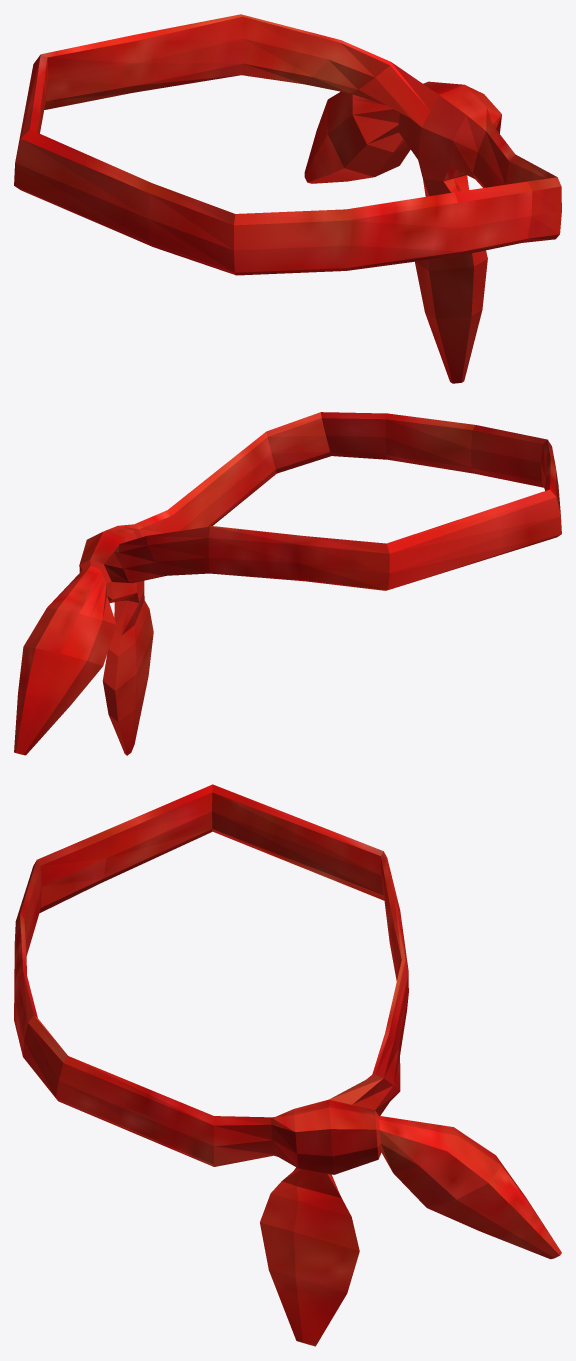
File: NECK SCARF.fbx
The picture shows the model from 3 angles, top to bottom: view 1: azimuth 30°, elevation 25°; view 2: azimuth 150°, elevation 25°; view 3: azimuth 270°, elevation 25°; orthographic projection. The views are drawn at different scales.
Visible parts, largest first — view 1: NECK_SCARF; view 2: NECK_SCARF; view 3: NECK_SCARF.
Part boxes in pixels (bbox=[...]): NECK_SCARF: bbox=[14, 14, 561, 383]; NECK_SCARF: bbox=[14, 412, 561, 755]; NECK_SCARF: bbox=[14, 784, 561, 1346].
Size of the model in its own units: 27.62 by 20.27 by 28.05.
